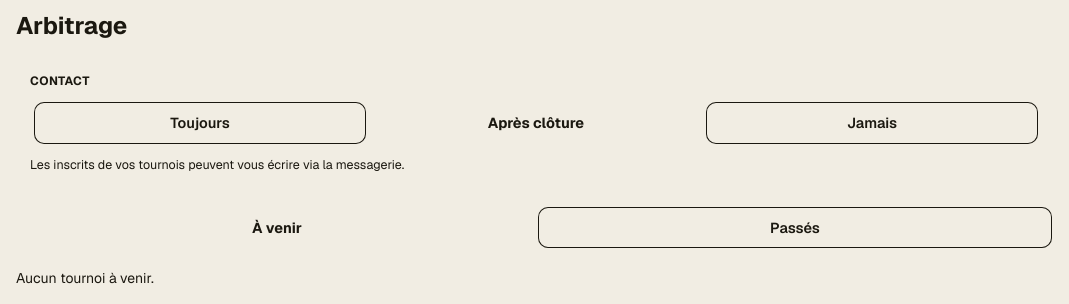
it: état vide selon le scope
Expected: the text "Aucun tournoi à venir." is shown, [16, 269, 154, 287]
Click the button "Passés".
click(795, 227)  # box [538, 206, 1052, 248]
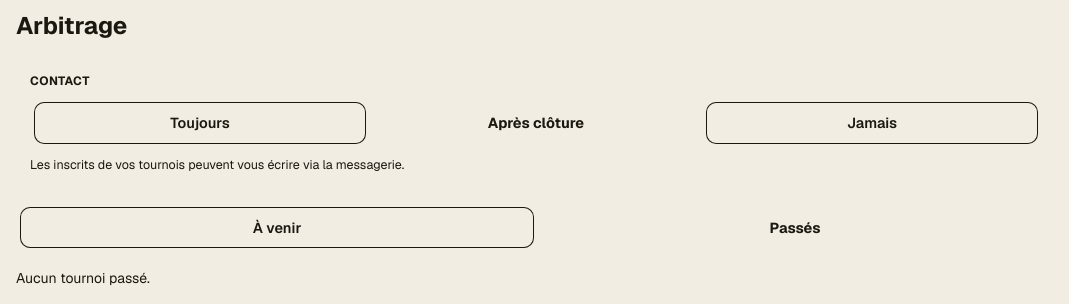
Expected: the text "Aucun tournoi passé." is shown, [16, 269, 150, 287]
